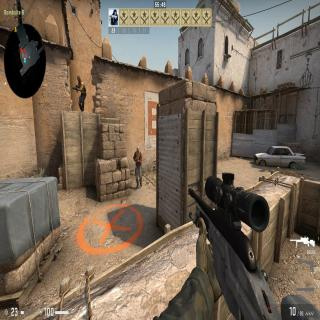T-Body: (133, 146, 143, 189), (76, 75, 86, 111)
T-Head: (136, 146, 140, 153), (77, 76, 81, 83)
